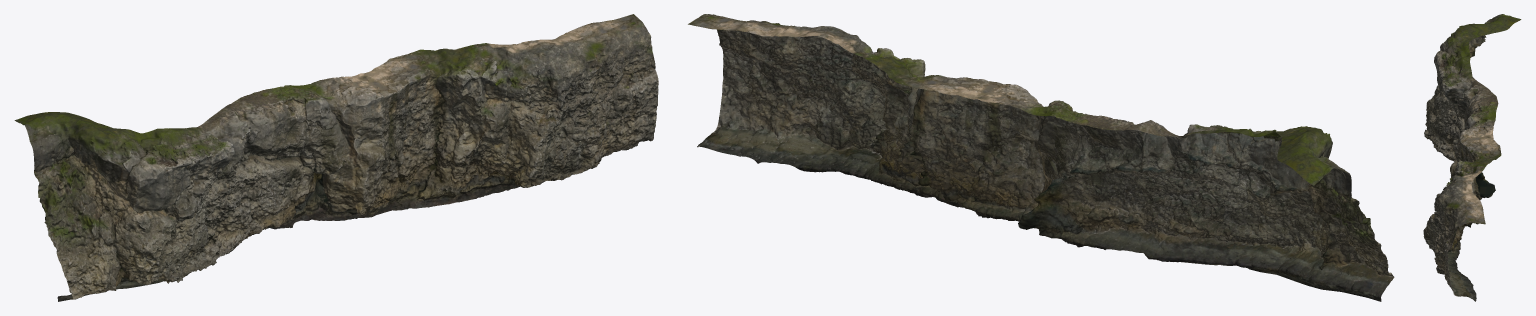
File: coastal_cliff_02.glb
The picture shows the model from 3 angles, left to right: view 1: azimuth 30°, elevation 25°; view 2: azimuth 150°, elevation 25°; view 3: azimuth 270°, elevation 25°; orthographic projection. The views are drawn at different scales.
Visible parts, largest first — view 1: coastal_cliff_02_LOD0; view 2: coastal_cliff_02_LOD0; view 3: coastal_cliff_02_LOD0.
Part boxes in pixels (x1,y1,x2,y2): coastal_cliff_02_LOD0: (14,14,658,301); coastal_cliff_02_LOD0: (688,14,1394,301); coastal_cliff_02_LOD0: (1423,14,1521,301).
Bounding box in the file's own units: 40.93 × 10.05 × 8.65.
Materials: 1 (1 with a texture image).
